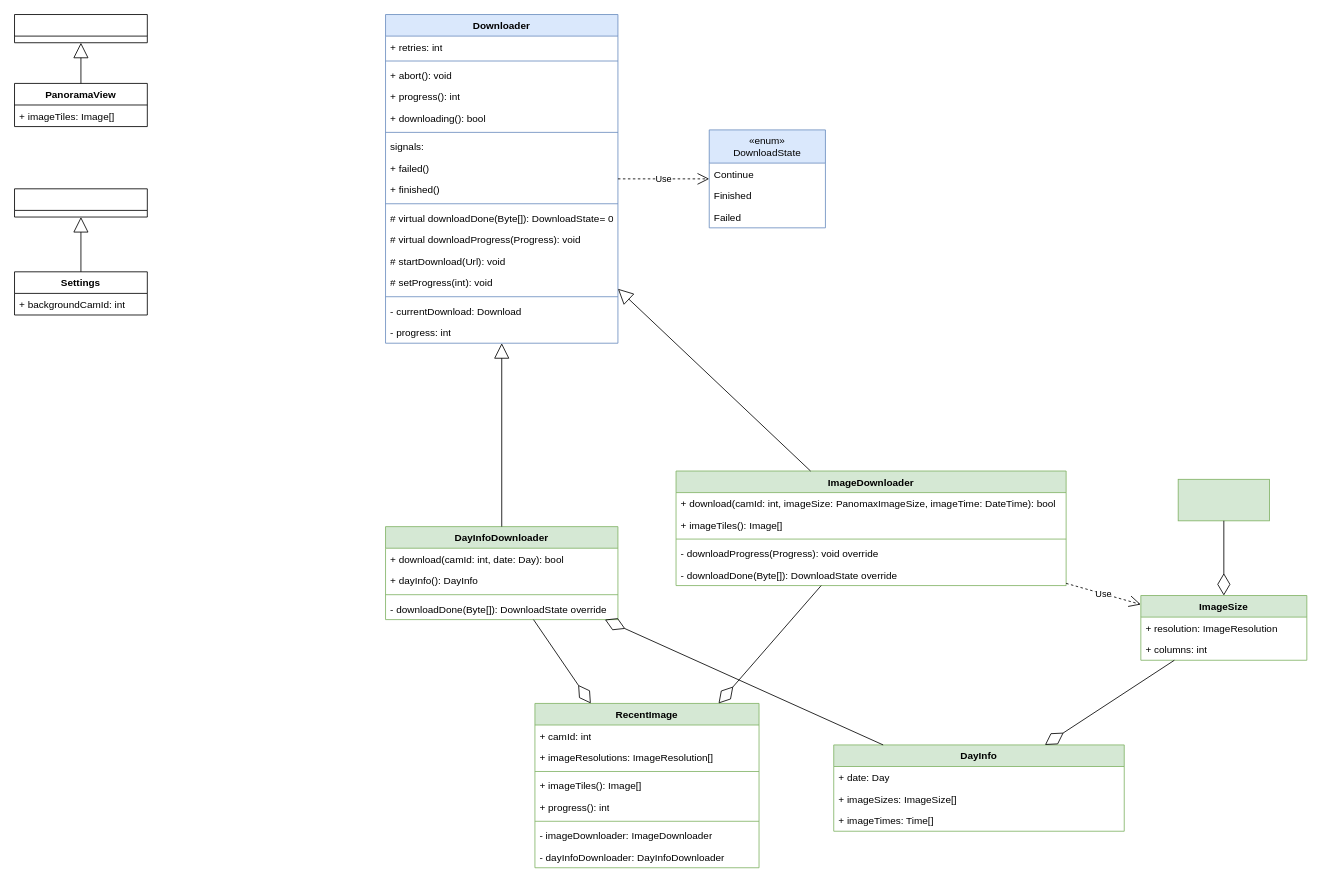
This 1321x885 diagram has some shape labels left out. The shapes that lost their labels are listed below. From the top down, each one's centre as x and y in pixels, then its label:
point (80, 28): QQuickItem
point (80, 202): QSettings
point (1223, 499): «enum» ImageResolution
